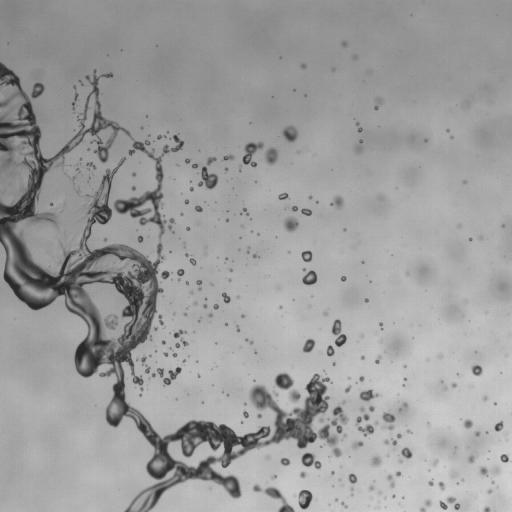droplet: (242, 142, 263, 166), (157, 366, 181, 385), (301, 452, 321, 469), (297, 490, 313, 509), (439, 496, 460, 509), (173, 330, 188, 347), (282, 126, 297, 142), (359, 389, 379, 401), (382, 412, 395, 430), (302, 270, 317, 285), (283, 217, 298, 231), (31, 82, 44, 98), (265, 147, 277, 164), (302, 338, 315, 352), (331, 195, 343, 208), (301, 250, 312, 262), (370, 455, 381, 467), (401, 447, 412, 458), (471, 365, 482, 375), (384, 438, 396, 447), (463, 419, 473, 428), (494, 421, 503, 431), (222, 292, 230, 303), (326, 345, 334, 356), (352, 441, 363, 449), (161, 270, 170, 279), (348, 474, 357, 483), (177, 269, 184, 280), (500, 454, 509, 462), (301, 208, 311, 215), (280, 458, 290, 465), (354, 145, 362, 153), (278, 193, 288, 199), (468, 454, 475, 462), (196, 280, 202, 289), (438, 481, 444, 490), (195, 205, 202, 212), (431, 459, 438, 466), (87, 162, 95, 168), (190, 257, 196, 265), (375, 356, 381, 363), (345, 385, 351, 392), (300, 471, 306, 478), (450, 472, 457, 478), (145, 365, 150, 373), (137, 236, 143, 242), (243, 411, 248, 418), (483, 506, 490, 511), (402, 402, 408, 407), (395, 471, 401, 476), (428, 480, 433, 486), (369, 485, 374, 491), (342, 41, 347, 46), (185, 158, 190, 163), (292, 206, 297, 211), (341, 276, 346, 281), (213, 304, 218, 309), (359, 376, 364, 381), (369, 406, 374, 411), (157, 135, 163, 139), (192, 164, 198, 168), (451, 383, 457, 387), (397, 433, 401, 439), (358, 127, 362, 132), (252, 254, 257, 258), (406, 429, 411, 433), (475, 431, 479, 436), (301, 64, 305, 68), (131, 186, 135, 190), (364, 298, 368, 302), (203, 304, 207, 308), (208, 313, 212, 317), (151, 373, 155, 377), (483, 396, 487, 400), (341, 400, 345, 404), (257, 414, 261, 418), (272, 475, 276, 479), (488, 489, 492, 493), (236, 326, 239, 331), (173, 352, 176, 357), (190, 187, 193, 191), (186, 226, 189, 230), (162, 340, 165, 344), (164, 352, 167, 356), (374, 421, 377, 425), (356, 122, 359, 125), (225, 168, 228, 171), (185, 200, 188, 203), (468, 237, 471, 240), (229, 268, 232, 271), (279, 306, 282, 309), (241, 314, 244, 317), (154, 327, 157, 330), (331, 471, 334, 474), (350, 487, 353, 490), (399, 459, 401, 463), (359, 140, 362, 142), (132, 173, 135, 175), (77, 190, 79, 193), (309, 196, 312, 198), (185, 254, 188, 256), (303, 268, 305, 271), (194, 302, 196, 305), (324, 312, 326, 315), (361, 356, 364, 358), (183, 359, 185, 362), (332, 363, 335, 365), (197, 375, 200, 377), (494, 402, 496, 405), (491, 481, 494, 483), (392, 495, 395, 497), (354, 56, 356, 58), (446, 129, 448, 131), (77, 169, 79, 171), (10, 173, 12, 175), (72, 177, 74, 179), (464, 180, 466, 182), (502, 225, 504, 227), (229, 279, 231, 281), (399, 409, 401, 411), (387, 454, 389, 456), (378, 491, 380, 493)
ligament: (0, 62, 339, 511), (252, 484, 294, 511), (274, 372, 300, 402), (198, 157, 217, 189), (355, 407, 374, 436), (332, 319, 346, 346), (479, 466, 500, 476), (420, 499, 431, 511), (387, 474, 394, 487), (72, 93, 78, 108), (374, 98, 381, 110), (223, 155, 234, 160), (158, 314, 163, 324), (141, 356, 145, 365), (243, 208, 248, 215), (246, 339, 252, 344), (341, 502, 347, 507), (379, 323, 382, 328)
